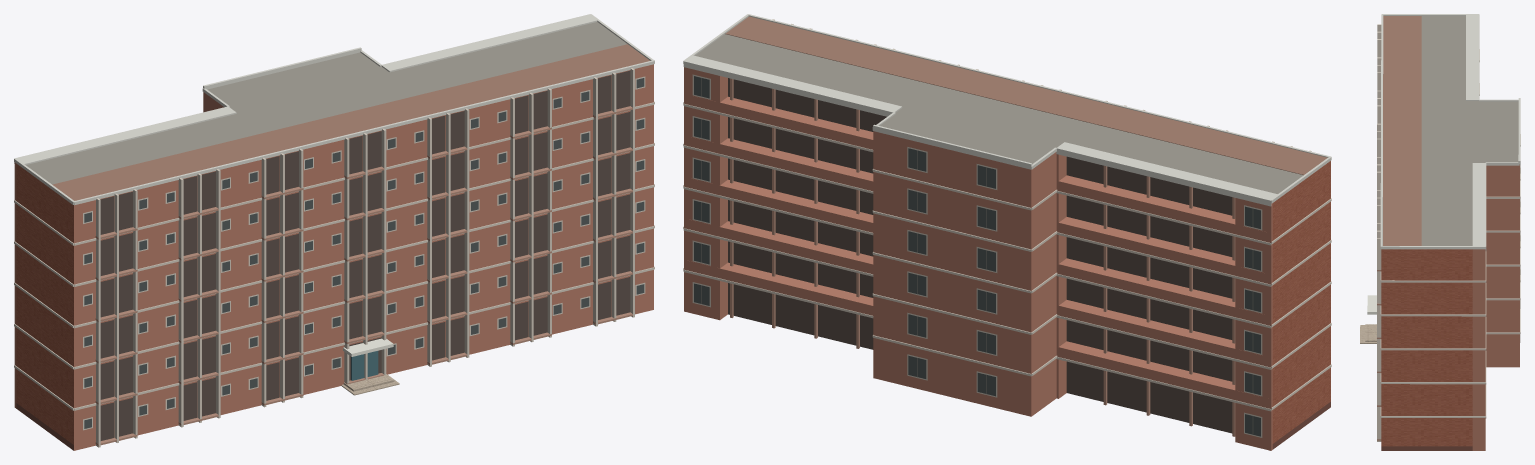
File: chunk-dorm-way-759129518.glb
The picture shows the model from 3 angles, left to right: view 1: azimuth 30°, elevation 25°; view 2: azimuth 150°, elevation 25°; view 3: azimuth 270°, elevation 25°; orthographic projection. The views are drawn at different scales.
Visible parts, largest first — view 1: chunk-dorm-way-759129518; view 2: chunk-dorm-way-759129518; view 3: chunk-dorm-way-759129518.
Boxes of the visible parts, box(x1,y1,x2,y2) form: chunk-dorm-way-759129518: box(14, 14, 654, 450); chunk-dorm-way-759129518: box(683, 14, 1331, 450); chunk-dorm-way-759129518: box(1360, 14, 1520, 450).
Bounding box in the file's own units: 48.7 × 20.12 × 14.2.
14 materials, 2 textured.
